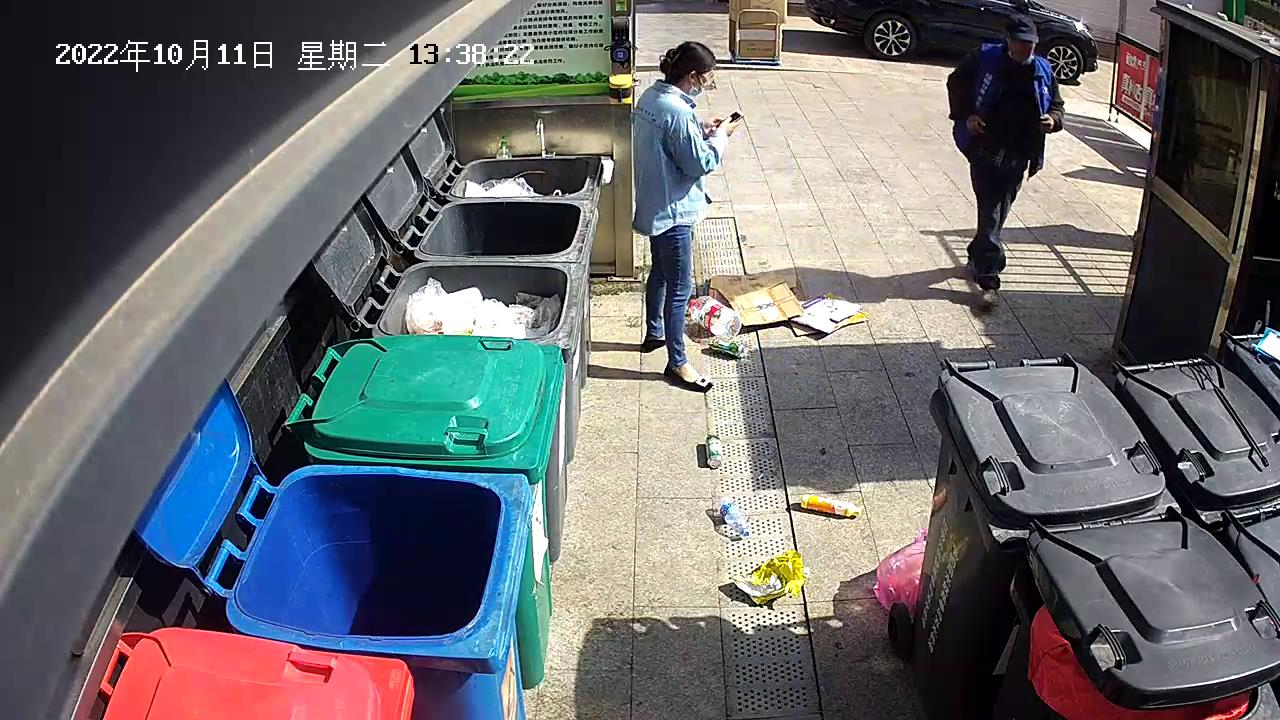garbage: (726, 548, 813, 608)
garbage-bag: (867, 524, 936, 613)
lvzhipin: (705, 333, 752, 362), (699, 429, 727, 470)
suliaozhipin: (685, 293, 744, 342), (796, 490, 865, 521), (715, 492, 755, 540)
worker: (623, 36, 747, 395), (938, 7, 1070, 312)
zhizhipin: (703, 265, 806, 329), (785, 288, 874, 337)
